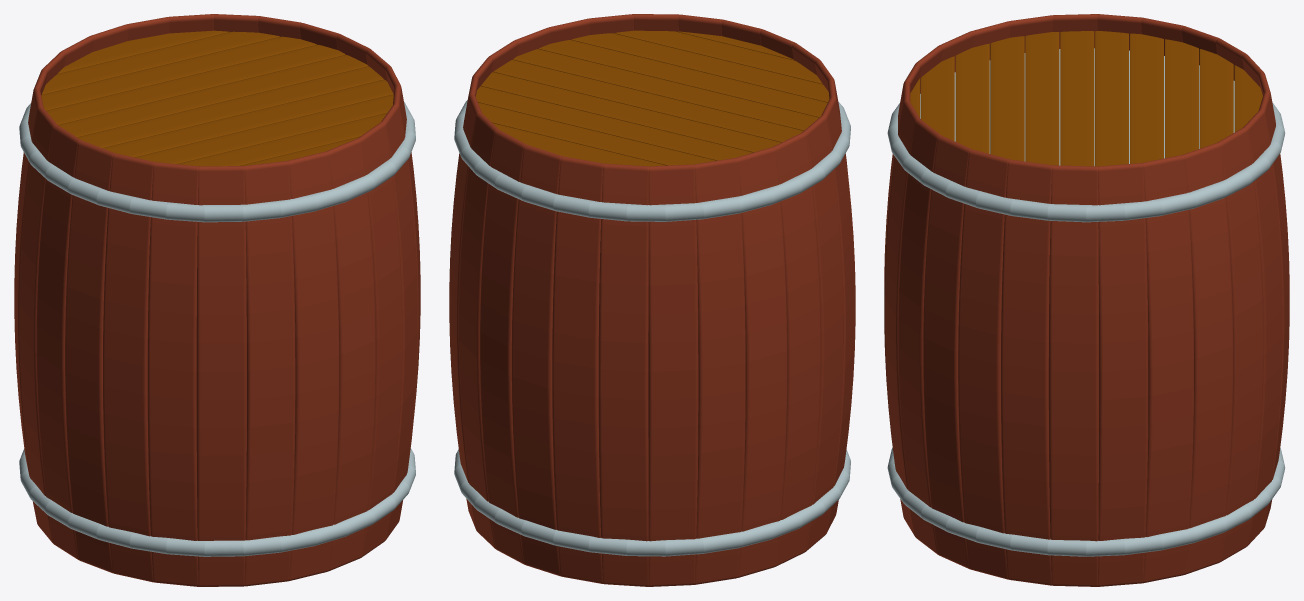
File: tonneau.fbx
3 views of the same model, side by side, from view 1: azimuth 30°, elevation 25°; view 2: azimuth 150°, elevation 25°; view 3: azimuth 270°, elevation 25° (orthographic).
Visible parts, largest first — view 1: Cylindre; view 2: Cylindre; view 3: Cylindre.
Part boxes in pixels (x1,y1,x2,y2): Cylindre: (14, 14, 420, 586); Cylindre: (449, 14, 855, 586); Cylindre: (884, 14, 1289, 586).
Bounding box in the file's own units: 10202 × 10221 × 11656.
